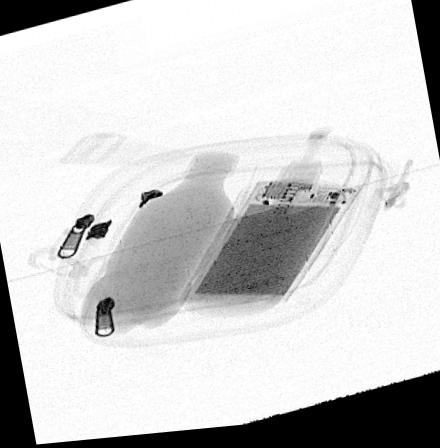Powerbank: (182, 186, 363, 306)
